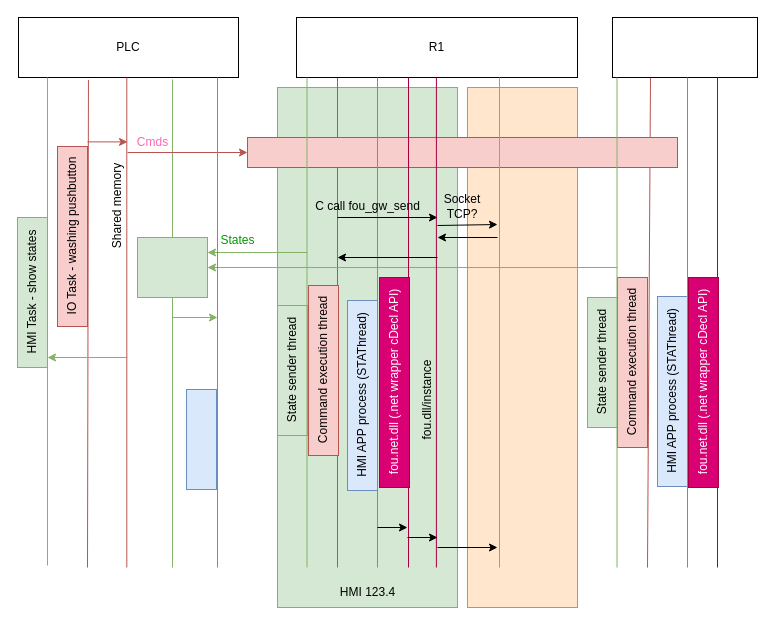
Some shapes in this 775 by 625 pixel diagram are drawn without their labels. Each missing label, with the box of its shape:
main UCC 123.2: (466, 86, 578, 608)
Multicast PLC receiver: (136, 236, 208, 298)
Multicast Robot receiver: (246, 136, 678, 168)
PLC main app: (186, 388, 216, 490)
R28: (612, 16, 758, 78)
